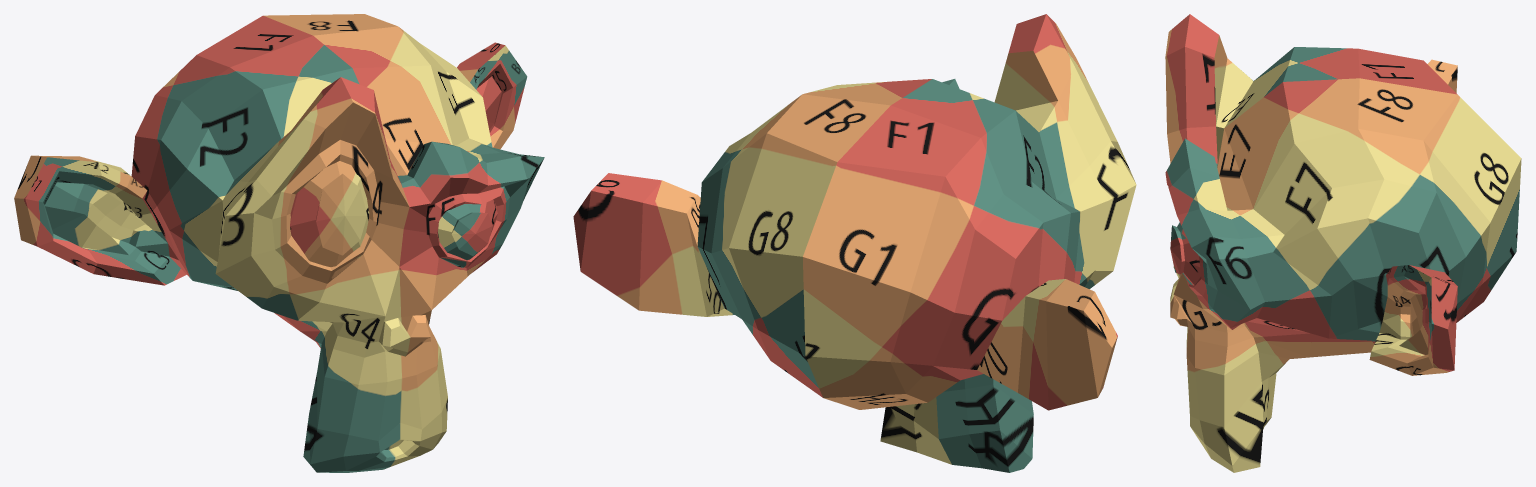
File: susan.gltf
The picture shows the model from 3 angles, left to right: view 1: azimuth 30°, elevation 25°; view 2: azimuth 150°, elevation 25°; view 3: azimuth 270°, elevation 25°; orthographic projection. The views are drawn at different scales.
Visible parts, largest first — view 1: Suzanne; view 2: Suzanne; view 3: Suzanne.
Boxes of the visible parts, x1,y1,x2,y2 form: Suzanne: (14, 14, 544, 472); Suzanne: (573, 14, 1136, 472); Suzanne: (1165, 14, 1521, 472).
Bounding box in the file's own units: 2.73 × 2.16 × 1.7.
1 material, 1 textured.
